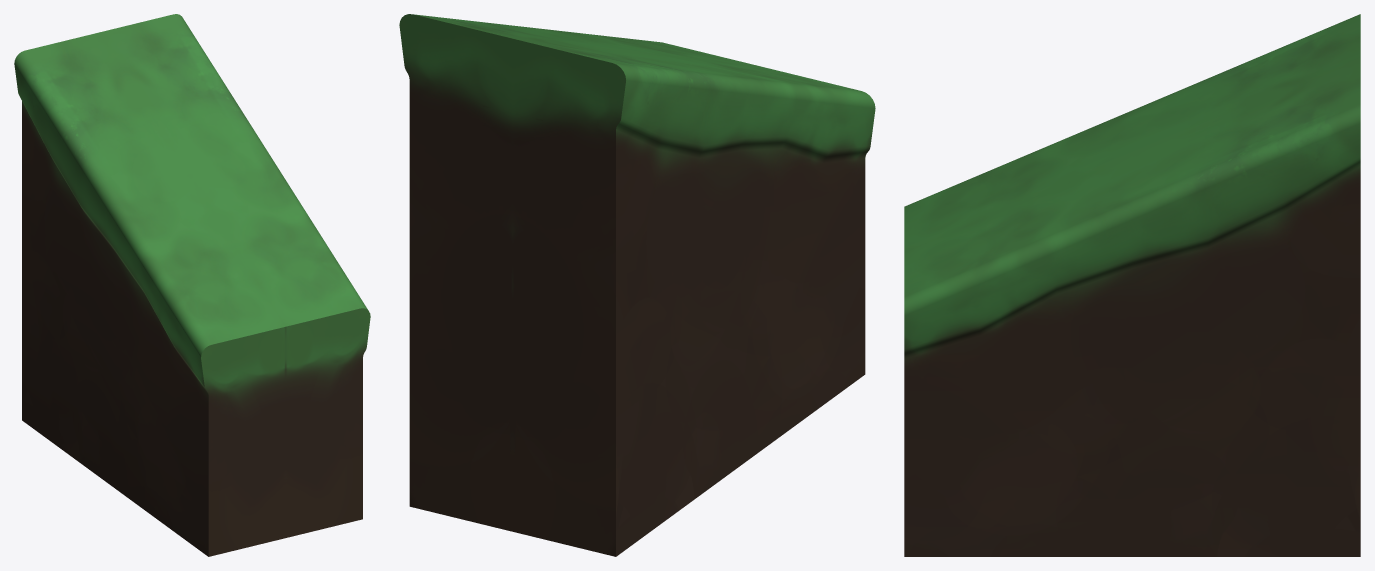
Rendered from terrain_slope.fbx.
The picture shows the model from 3 angles, left to right: view 1: azimuth 30°, elevation 25°; view 2: azimuth 150°, elevation 25°; view 3: azimuth 270°, elevation 25°; orthographic projection. The views are drawn at different scales.
Parts seen in each view (by area): view 1: terrain_slope; view 2: terrain_slope; view 3: terrain_slope.
Boxes of the visible parts, box(x1,y1,x2,y2) form: terrain_slope: box(14, 14, 370, 556); terrain_slope: box(399, 14, 875, 556); terrain_slope: box(904, 14, 1360, 556).
Bounding box in the file's own units: 420 × 873 × 800.
